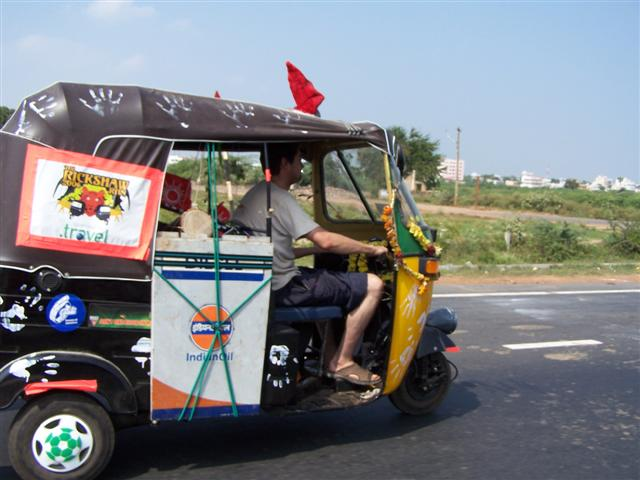rickshaw: (6, 79, 472, 469)
